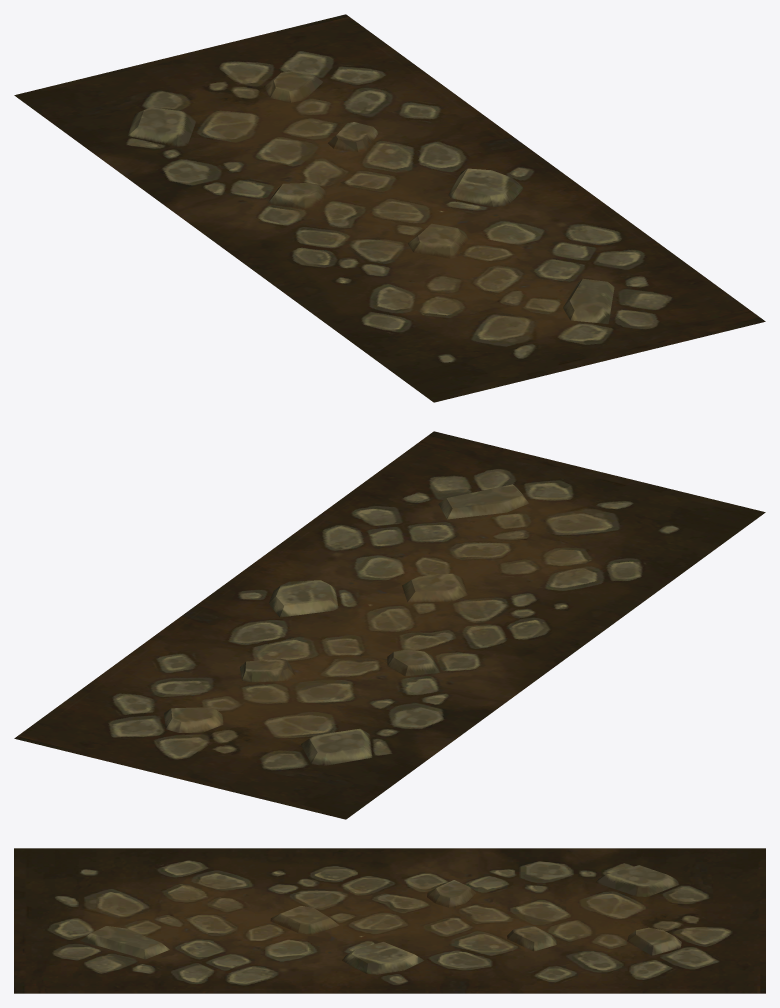
Rendered from road_straight_dirt1b.fbx.
The picture shows the model from 3 angles, top to bottom: view 1: azimuth 30°, elevation 25°; view 2: azimuth 150°, elevation 25°; view 3: azimuth 270°, elevation 25°; orthographic projection. The views are drawn at different scales.
Visible parts, largest first — view 1: obj0.073; view 2: obj0.073; view 3: obj0.073.
Part boxes in pixels (bbox=[...]): obj0.073: bbox=[14, 14, 765, 402]; obj0.073: bbox=[14, 431, 765, 819]; obj0.073: bbox=[14, 848, 765, 993].
Size of the model in its own units: 9.12 by 0.194 by 19.98.
